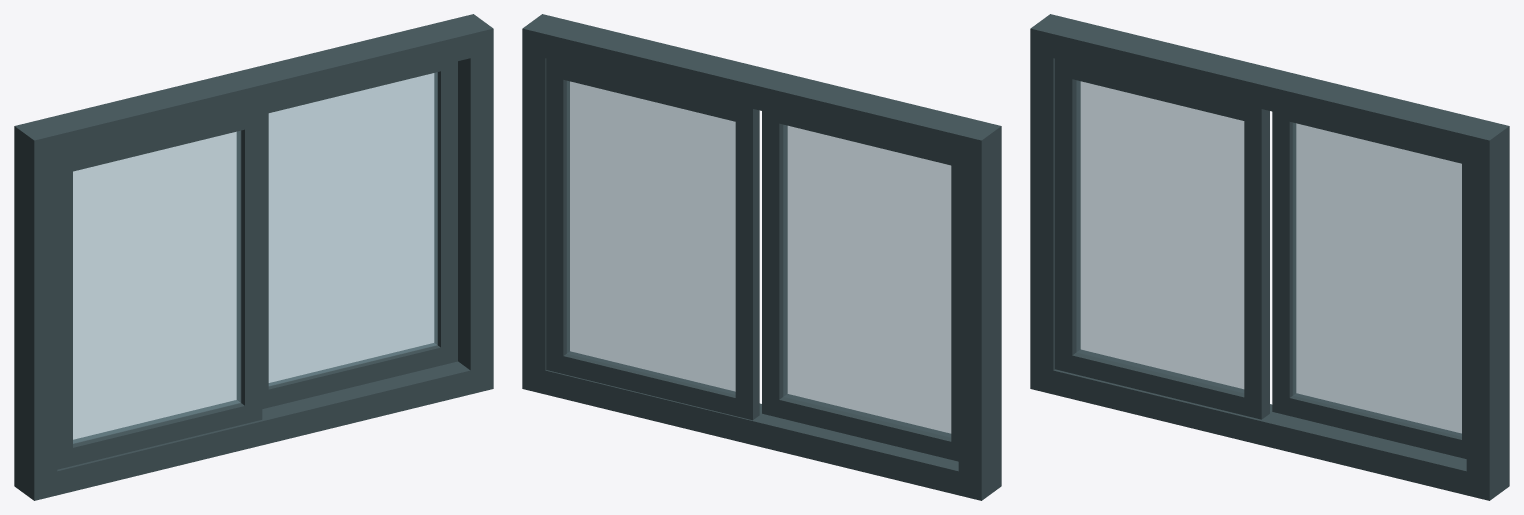
3 views of the same model, side by side, from view 1: azimuth 30°, elevation 25°; view 2: azimuth 150°, elevation 25°; view 3: azimuth 330°, elevation 25° (orthographic).
Visible parts, largest first — view 1: fixedGlass, movingGlass, outer-top, outer-left, outer-bottom, outer-right, sash-right, fixed-sash-right, sash-left, sash-bottom, fixed-sash-bottom, sash-top (+2 smaller); view 2: fixedGlass, movingGlass, outer-top, outer-left, outer-bottom, outer-right, sash-right, fixed-sash-left, fixed-sash-right, fixed-sash-bottom, sash-bottom, fixed-sash-top (+2 smaller); view 3: fixedGlass, movingGlass, outer-top, outer-right, outer-bottom, outer-left, sash-right, sash-left, fixed-sash-left, sash-bottom, fixed-sash-bottom, sash-top (+2 smaller).
Part boxes in pixels (x1=…): fixedGlass: x1=268, y1=72, x2=437, y2=386; movingGlass: x1=73, y1=130, x2=240, y2=443; outer-top: x1=14, y1=19, x2=470, y2=164; outer-left: x1=14, y1=120, x2=57, y2=500; outer-bottom: x1=14, y1=361, x2=493, y2=500; outer-right: x1=451, y1=14, x2=493, y2=394; sash-right: x1=236, y1=109, x2=262, y2=423; fixed-sash-right: x1=434, y1=67, x2=457, y2=364; sash-left: x1=57, y1=155, x2=72, y2=469; sash-bottom: x1=57, y1=400, x2=244, y2=467; fixed-sash-bottom: x1=262, y1=343, x2=457, y2=408; sash-top: x1=58, y1=111, x2=256, y2=174; fixedGlass: x1=567, y1=81, x2=735, y2=394; movingGlass: x1=783, y1=125, x2=951, y2=437; outer-top: x1=522, y1=19, x2=1001, y2=164; outer-left: x1=958, y1=120, x2=1001, y2=500; outer-bottom: x1=522, y1=365, x2=1001, y2=500; outer-right: x1=522, y1=14, x2=564, y2=394; sash-right: x1=762, y1=111, x2=787, y2=417; fixed-sash-left: x1=735, y1=104, x2=759, y2=420; fixed-sash-right: x1=546, y1=58, x2=569, y2=373; fixed-sash-bottom: x1=546, y1=351, x2=759, y2=419; sash-bottom: x1=762, y1=394, x2=958, y2=461; fixed-sash-top: x1=546, y1=59, x2=759, y2=125; fixedGlass: x1=1293, y1=122, x2=1461, y2=436; movingGlass: x1=1076, y1=80, x2=1244, y2=392; outer-top: x1=1030, y1=19, x2=1509, y2=164; outer-right: x1=1466, y1=120, x2=1509, y2=500; outer-bottom: x1=1030, y1=365, x2=1509, y2=500; outer-left: x1=1030, y1=14, x2=1072, y2=394; sash-right: x1=1244, y1=105, x2=1269, y2=419; sash-left: x1=1055, y1=58, x2=1080, y2=372; fixed-sash-left: x1=1272, y1=116, x2=1295, y2=411; sash-bottom: x1=1055, y1=349, x2=1269, y2=418; fixed-sash-bottom: x1=1272, y1=393, x2=1461, y2=457; sash-top: x1=1057, y1=60, x2=1267, y2=124.
Bounding box in the file's own units: 1.6 × 1.2 × 0.12.
